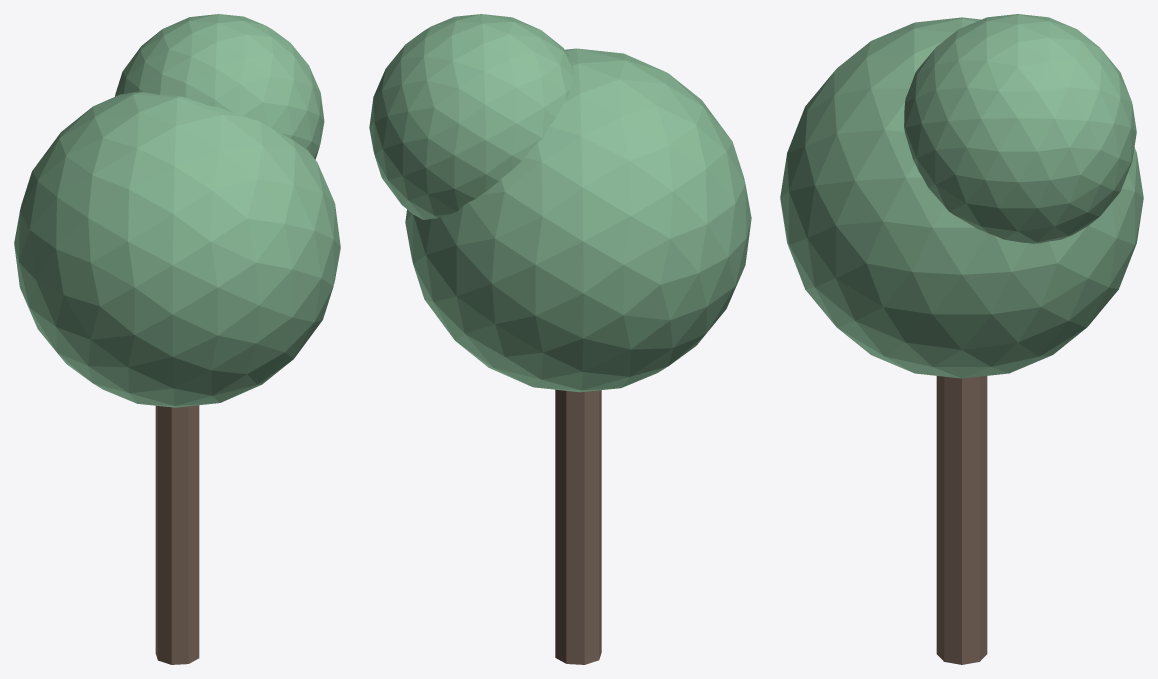
The model's file is tree.glb.
The picture shows the model from 3 angles, left to right: view 1: azimuth 30°, elevation 25°; view 2: azimuth 150°, elevation 25°; view 3: azimuth 270°, elevation 25°; orthographic projection. The views are drawn at different scales.
Parts seen in each view (by area): view 1: leaves, trunk; view 2: leaves, trunk; view 3: leaves, trunk.
Boxes of the visible parts, bbox=[...] form: leaves: bbox=[14, 14, 340, 407]; trunk: bbox=[155, 405, 199, 664]; leaves: bbox=[369, 14, 751, 392]; trunk: bbox=[555, 389, 601, 664]; leaves: bbox=[780, 14, 1143, 378]; trunk: bbox=[936, 376, 987, 664].
Size of the model in its own units: 2.75 by 5.25 by 2.6.
